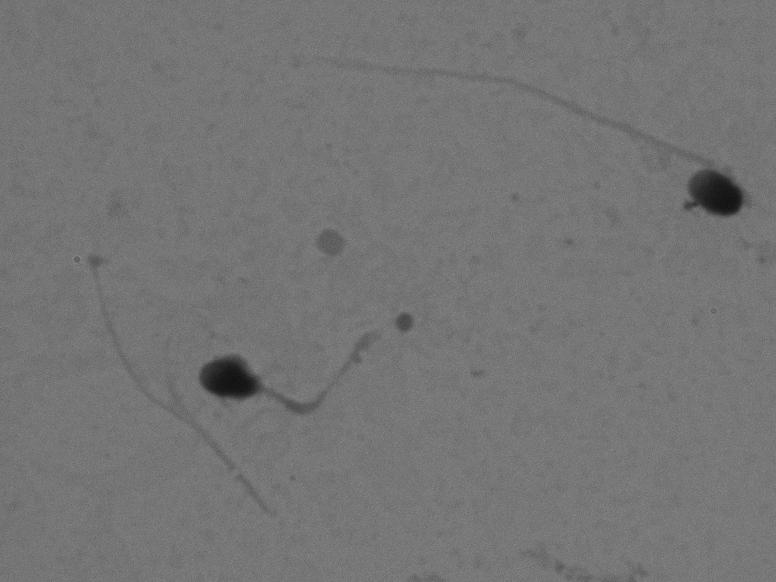Abnormal: (245, 15, 758, 250), (179, 288, 411, 463)
